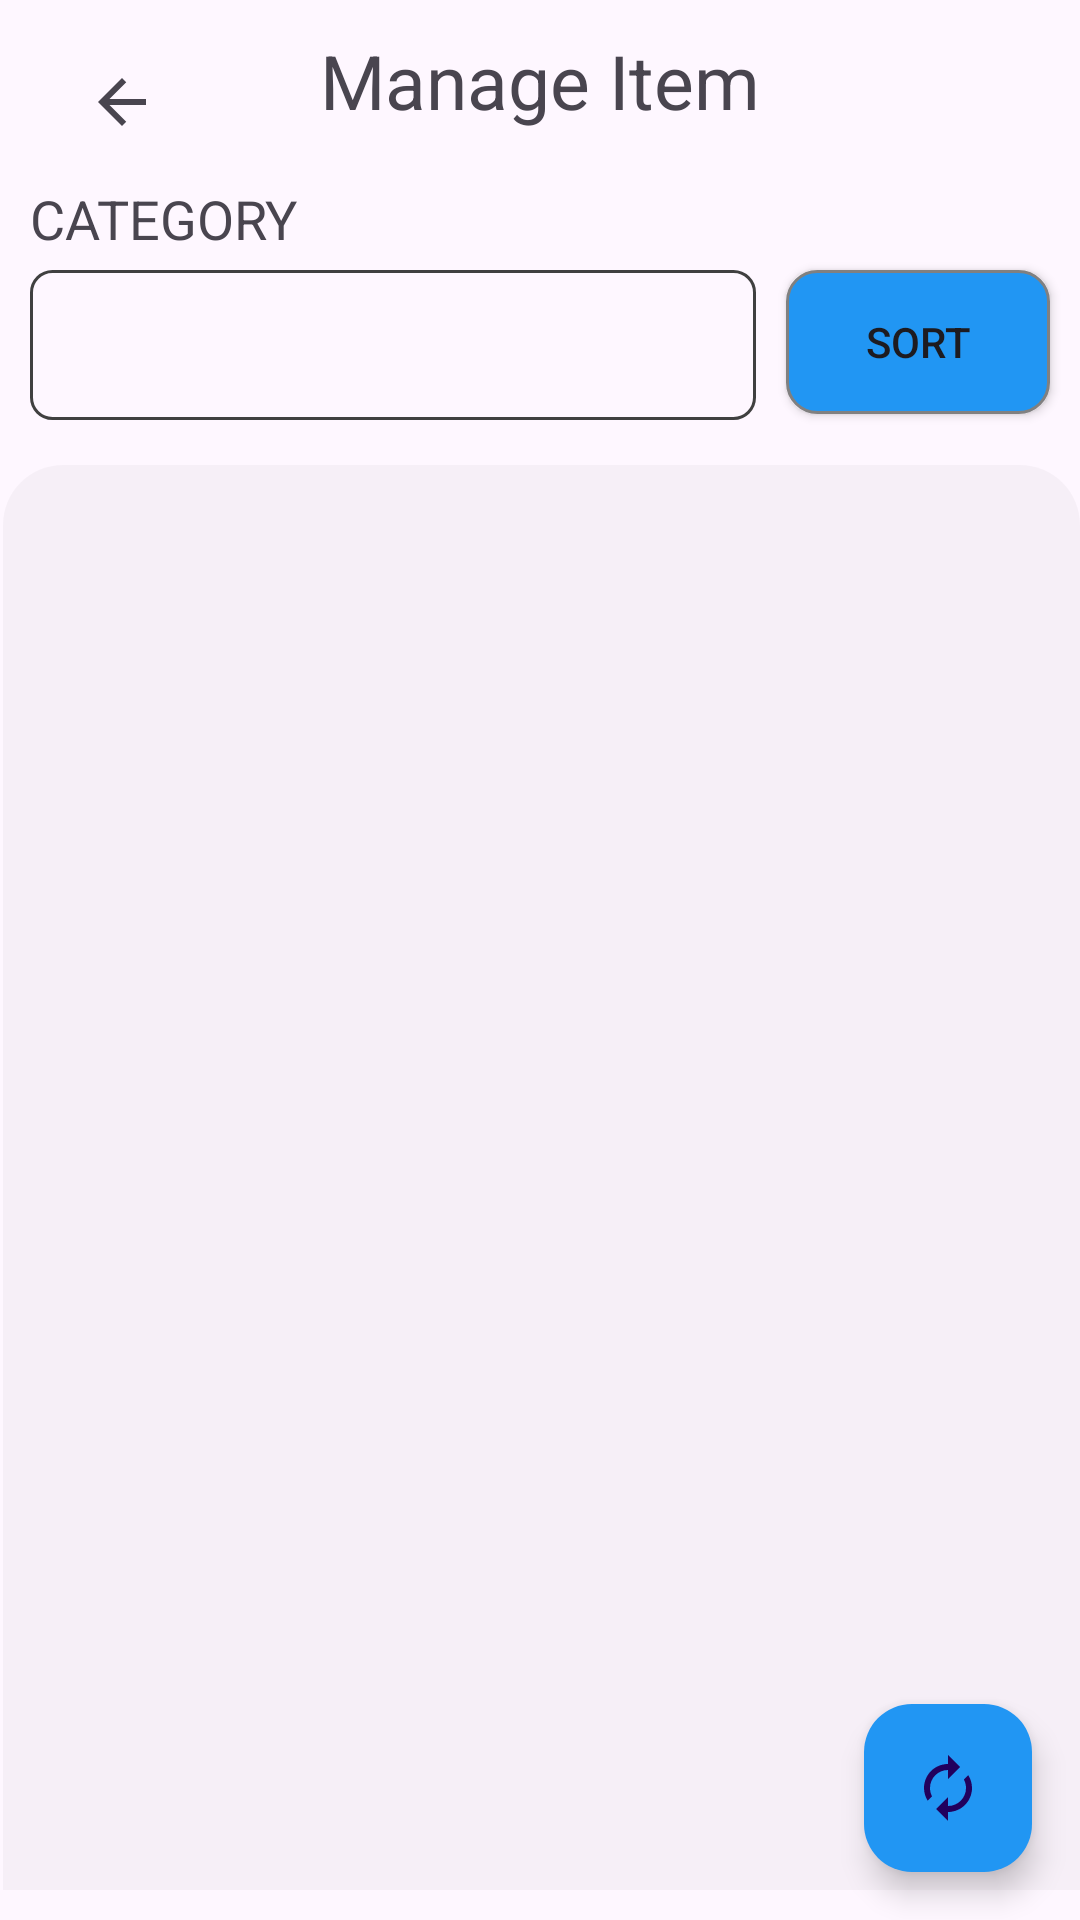

Icon click points for this 1080w x 1920h phone screenshot, format (x=x, y=y):
Back button: (x=122, y=102)
Refresh button: (x=948, y=1788)
